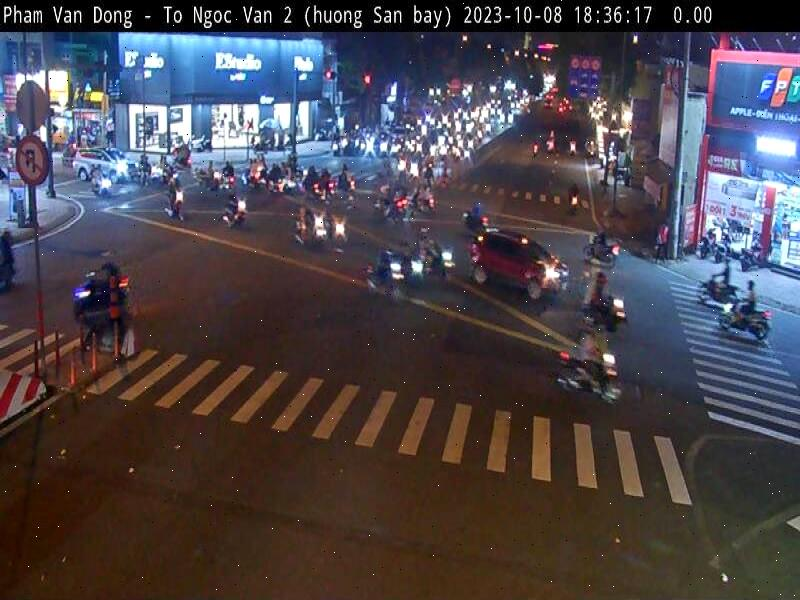car: (466, 218, 571, 308)
